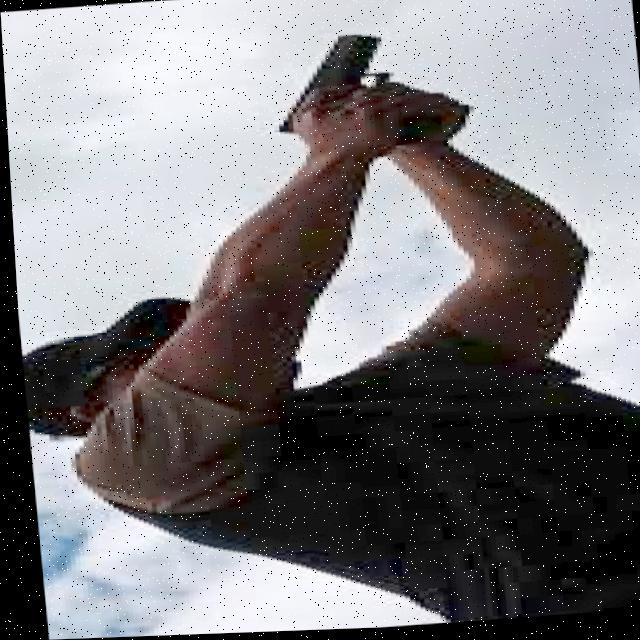pistol: (261, 31, 401, 137)
